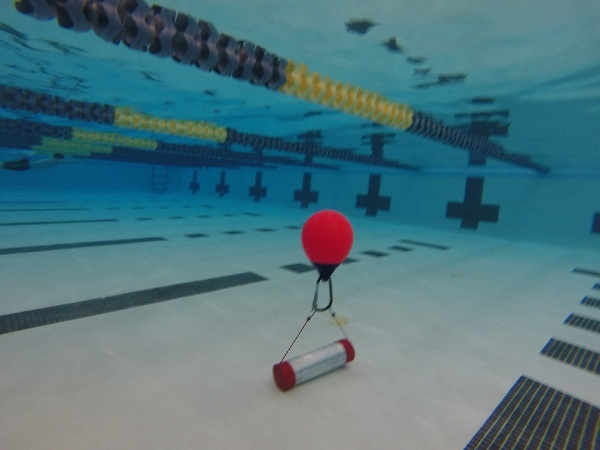buoy_red: (297, 206, 357, 289)
